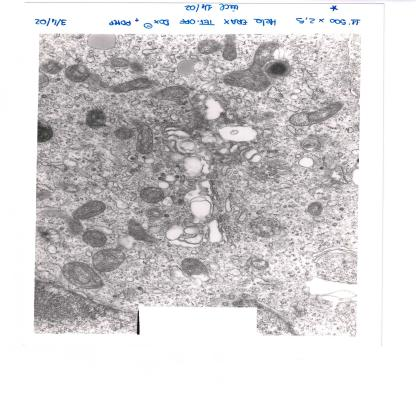mitochondria: (223, 41, 281, 92), (287, 100, 346, 127), (61, 262, 105, 290), (92, 248, 128, 273), (132, 119, 155, 155), (106, 77, 153, 92), (71, 200, 106, 220), (152, 86, 192, 100), (125, 218, 149, 241), (181, 257, 207, 278), (63, 64, 91, 82), (219, 34, 238, 60), (86, 107, 107, 130), (82, 230, 108, 247), (140, 186, 164, 204), (196, 39, 223, 55), (41, 59, 63, 75), (112, 124, 132, 140), (306, 200, 322, 216), (127, 62, 146, 73), (111, 57, 129, 68)
